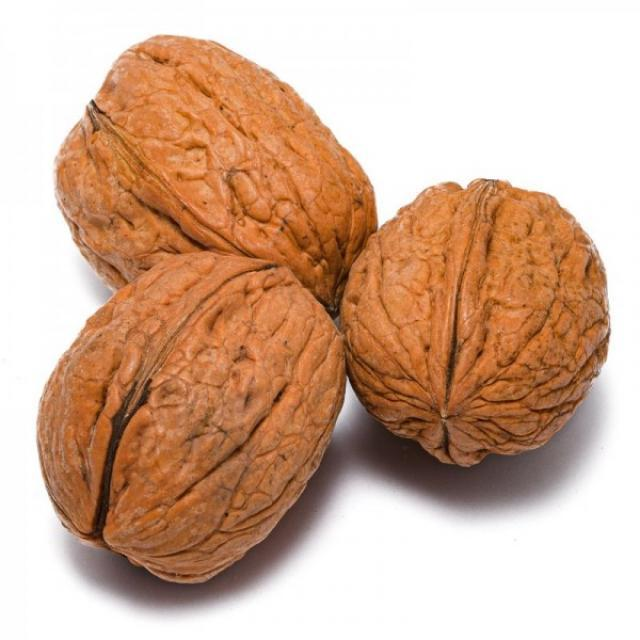Frutta secca: (40, 243, 360, 583), (346, 177, 631, 475)
